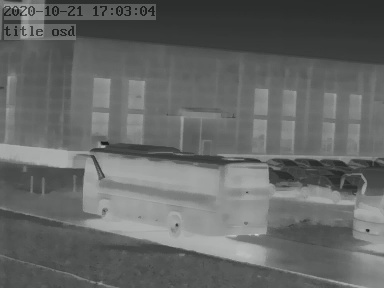vehicle: (72, 139, 269, 236), (298, 174, 349, 202), (264, 167, 299, 191), (344, 156, 378, 172), (265, 154, 297, 168), (319, 156, 350, 170), (297, 155, 325, 169)
